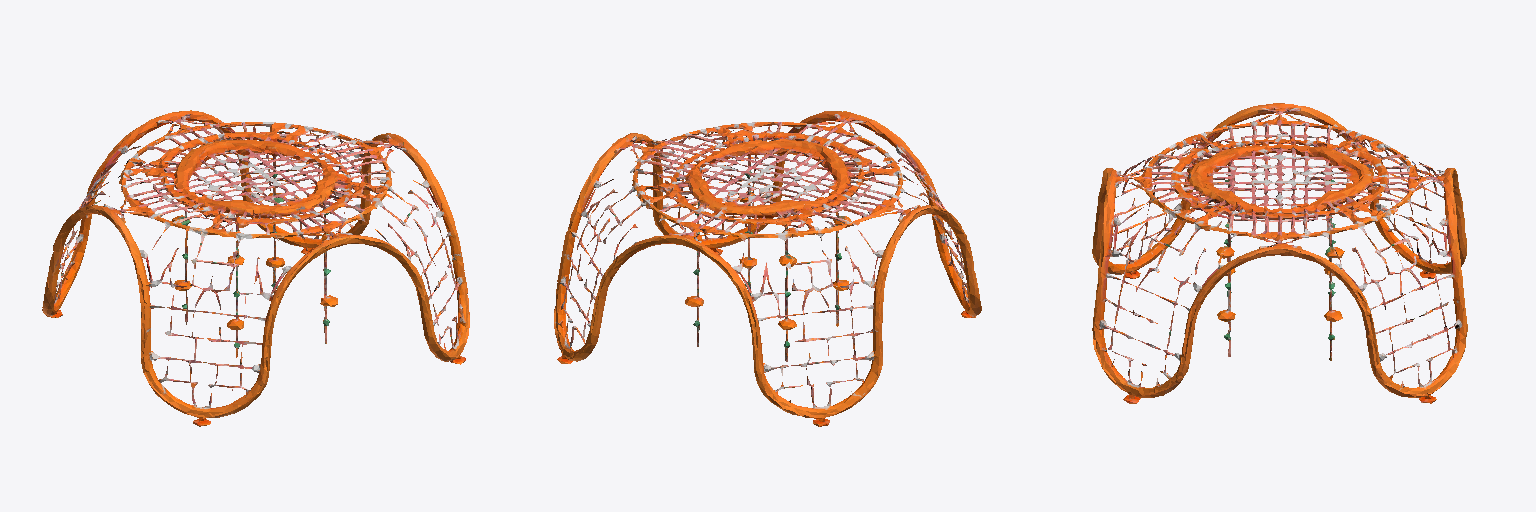
The picture shows the model from 3 angles: view 1: azimuth 30°, elevation 25°; view 2: azimuth 150°, elevation 25°; view 3: azimuth 270°, elevation 25°; orthographic projection.
Visible parts, largest first — view 1: escalar1_[number redacted]_texture; view 2: escalar1_[number redacted]_texture; view 3: escalar1_[number redacted]_texture.
Boxes of the visible parts, x1,y1,x2,y2 form: escalar1_[number redacted]_texture: [42, 110, 469, 426]; escalar1_[number redacted]_texture: [554, 111, 981, 426]; escalar1_[number redacted]_texture: [1092, 103, 1467, 403].
Size of the model in its own units: 23.79 by 11.6 by 23.77.
1 materials, 1 textured.